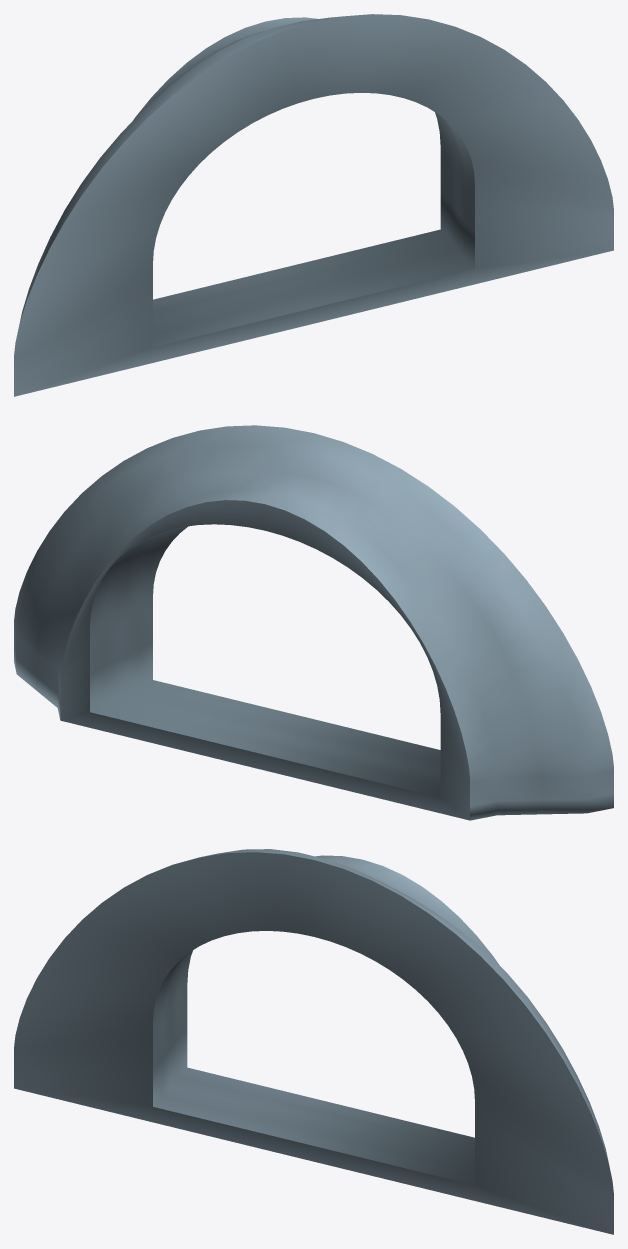
The model's file is portal_exit_terrain_lod1.glb.
3 renders of one model, top to bottom at view 1: azimuth 30°, elevation 25°; view 2: azimuth 150°, elevation 25°; view 3: azimuth 330°, elevation 25°, orthographic.
Visible parts, largest first — view 1: TerrainRoof.003; view 2: TerrainRoof.003; view 3: TerrainRoof.003.
Boxes of the visible parts, bbox=[...] form: TerrainRoof.003: bbox=[14, 14, 613, 396]; TerrainRoof.003: bbox=[14, 425, 613, 820]; TerrainRoof.003: bbox=[14, 849, 613, 1234].
Bounding box in the file's own units: 28.4 × 13.65 × 4.
